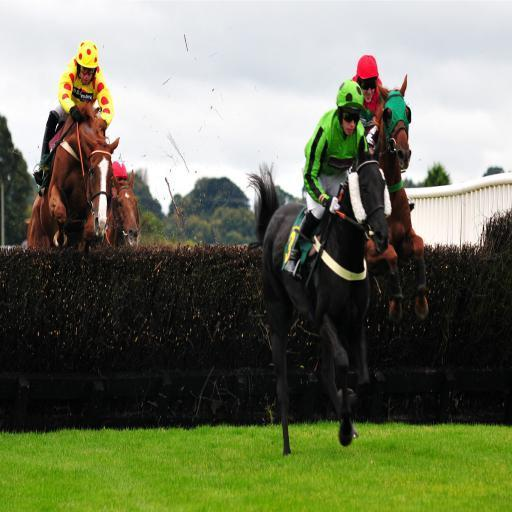horse: (246, 134, 390, 460), (366, 73, 430, 322), (26, 102, 122, 250), (78, 170, 141, 248)
